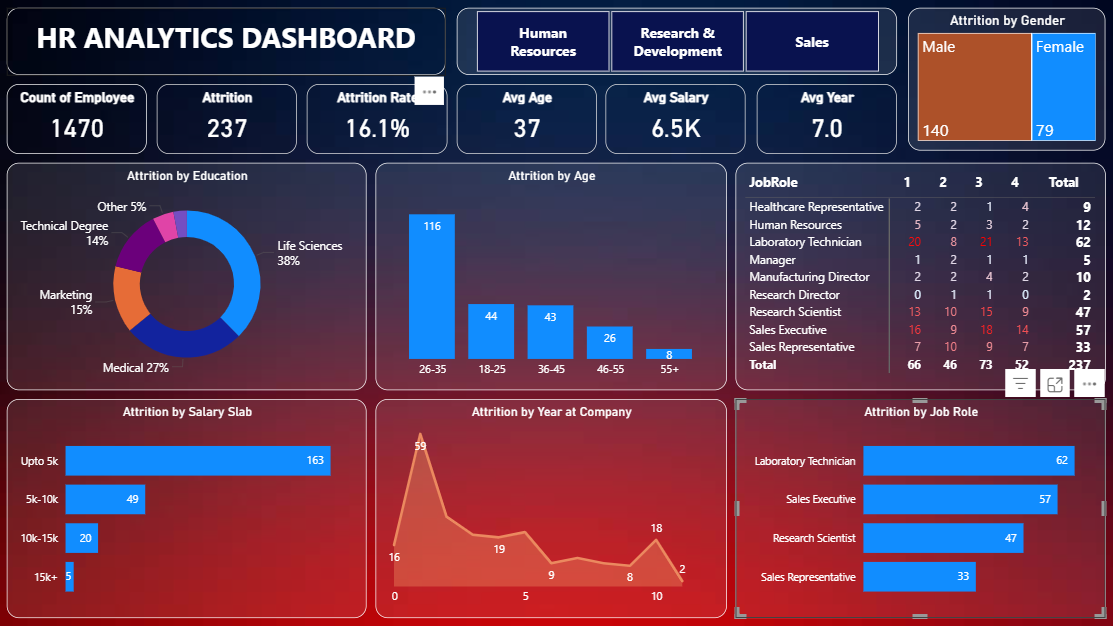

This screenshot's page, from the dashboard's own definition file:
{"tool":"powerbi","page":{"name":"Page 1","canvas":[1280,720],"ordinal":0},"visuals":[{"type":"card","title":"Count of Employee","fields":{"Values":["Count(HR_Analytics.EmpID)"]},"box":[10,96.5,160,80],"z":0},{"type":"card","title":"Avg Year","fields":{"Values":["Avg(HR_Analytics.YearsAtCompany)"]},"box":[867.1,97.1,160,80],"z":1000},{"type":"card","title":"Avg Salary","fields":{"Values":["Avg(HR_Analytics.MonthlyIncome)"]},"box":[694.3,97.1,160,80],"z":2000},{"type":"card","title":"Attrition","fields":{"Values":["Sum(HR_Analytics.AttritionCount)"]},"box":[181.4,97.1,160,80],"z":3000},{"type":"card","title":"Attrition Rate","fields":{"Values":["HR_Analytics.AttritionRate"]},"box":[351.4,97.1,160,80],"z":4000},{"type":"card","title":"Avg Age","fields":{"Values":["Avg(HR_Analytics.Age)"]},"box":[524.3,97.1,160,80],"z":5000},{"type":"donutChart","title":"Attrition by Education","fields":{"Category":["HR_Analytics.EducationField"],"Y":["Sum(HR_Analytics.AttritionCount)"]},"box":[10,187.1,411.4,260],"z":6000},{"type":"columnChart","title":"Attrition by Age","fields":{"Y":["Sum(HR_Analytics.AttritionCount)"],"Category":["HR_Analytics.AgeGroup"]},"box":[431.4,187.1,401.4,260],"z":7000},{"type":"pivotTable","title":"Attrition by Age","fields":{"Rows":["HR_Analytics.JobRole"],"Values":["Sum(HR_Analytics.AttritionCount)"],"Columns":["HR_Analytics.JobSatisfaction"]},"box":[842.9,187.1,422.9,260],"z":8000},{"type":"barChart","title":"Attrition by Salary","fields":{"Category":["HR_Analytics.SalarySlab"],"Y":["Sum(HR_Analytics.AttritionCount)"]},"box":[10,457.1,411.4,250],"z":9000},{"type":"barChart","title":"Attrition by Job Role","fields":{"Y":["Sum(HR_Analytics.AttritionCount)"],"Category":["HR_Analytics.JobRole"]},"box":[842.9,457.1,422.9,250],"z":10000},{"type":"areaChart","title":"Attrition by Year","fields":{"Category":["HR_Analytics.YearsAtCompany"],"Y":["Sum(HR_Analytics.AttritionCount)"]},"box":[431.4,457.1,401.4,250],"z":10001},{"type":"treemap","title":"Attrition by Gender","fields":{"Group":["HR_Analytics.Gender"],"Values":["Sum(HR_Analytics.AttritionCount)"]},"box":[1040,10,225.7,162.9],"z":10002},{"type":"slicer","title":"Attrition by Age","fields":{"Values":["HR_Analytics.Department"]},"box":[524.3,10,502.9,77.1],"z":10003},{"type":"textbox","box":[10,10,501.4,77.1],"z":10004}]}

Visuals, with their boxes in screenshot pixels (x1, y1, x2, y2), scaled from the page's 1280x720 canvas onto the 1113x626 screenshot:
"Count of Employee" card: BBox(9, 84, 148, 153)
"Avg Year" card: BBox(754, 84, 893, 154)
"Avg Salary" card: BBox(604, 84, 743, 154)
"Attrition" card: BBox(158, 84, 297, 154)
"Attrition Rate" card: BBox(306, 84, 445, 154)
"Avg Age" card: BBox(456, 84, 595, 154)
"Attrition by Education" donutChart: BBox(9, 163, 366, 389)
"Attrition by Age" columnChart: BBox(375, 163, 724, 389)
"Attrition by Age" pivotTable: BBox(733, 163, 1101, 389)
"Attrition by Salary" barChart: BBox(9, 397, 366, 615)
"Attrition by Job Role" barChart: BBox(733, 397, 1101, 615)
"Attrition by Year" areaChart: BBox(375, 397, 724, 615)
"Attrition by Gender" treemap: BBox(904, 9, 1101, 150)
"Attrition by Age" slicer: BBox(456, 9, 893, 76)
textbox: BBox(9, 9, 445, 76)
